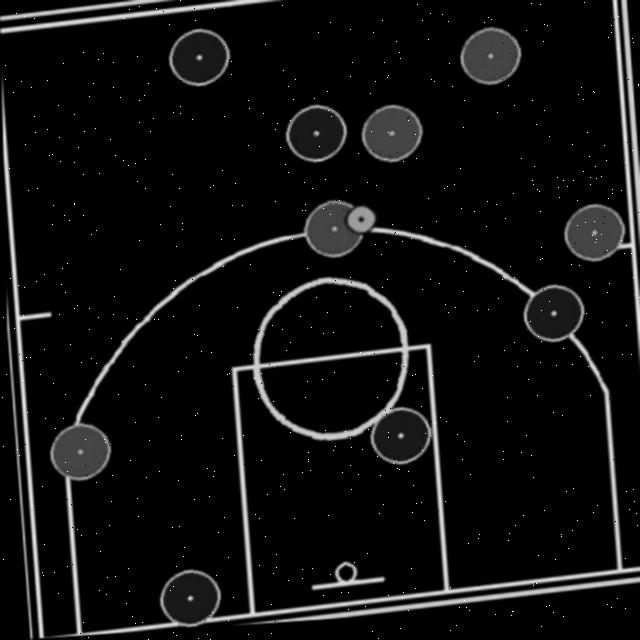Basketball: (344, 208, 377, 240)
Team_A: (165, 26, 231, 90), (282, 103, 347, 166), (519, 288, 583, 350), (156, 569, 221, 629), (364, 410, 429, 470)
Team_B: (357, 104, 424, 168), (457, 28, 523, 92), (559, 208, 627, 270), (300, 203, 364, 262), (49, 424, 109, 481)
